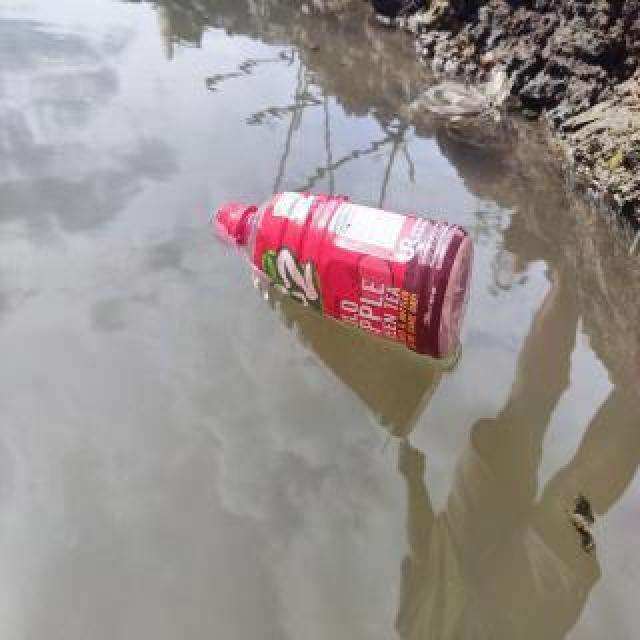bottle: (208, 182, 476, 366)
